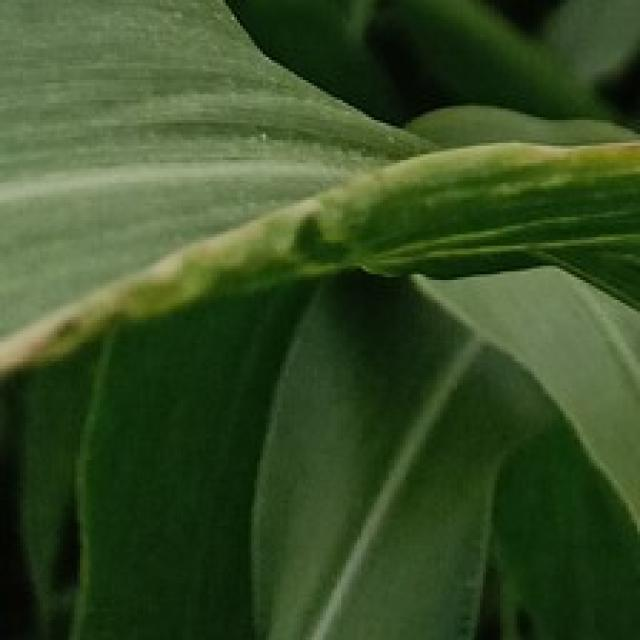Corn: (0, 0, 637, 637), (0, 126, 637, 403), (194, 0, 637, 131)
